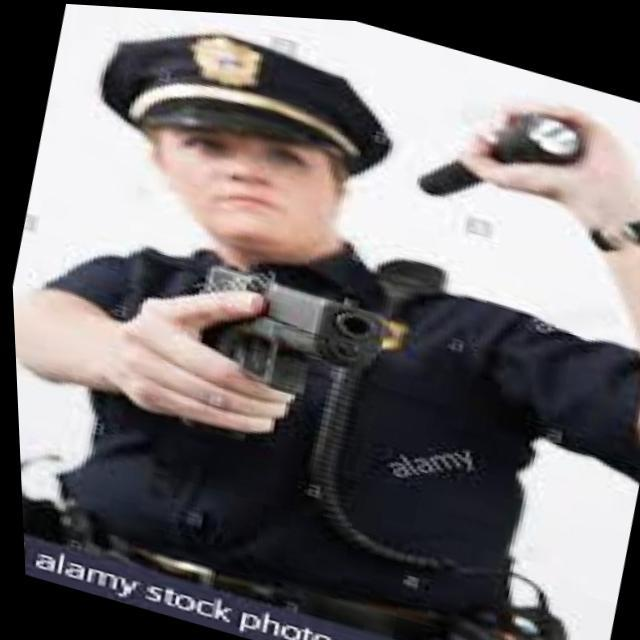weapon: (173, 256, 390, 416)
